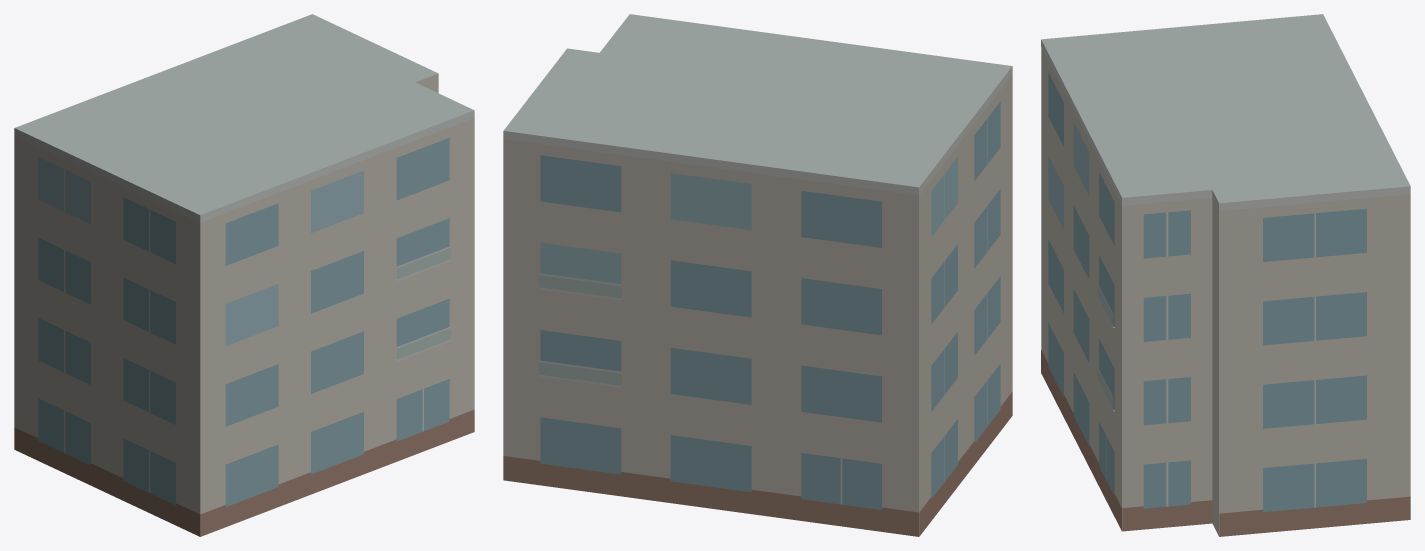
File: survey-upis-32616213.glb
3 renders of one model, left to right at view 1: azimuth 30°, elevation 25°; view 2: azimuth 150°, elevation 25°; view 3: azimuth 270°, elevation 25°, orthographic. The views are drawn at different scales.
Parts seen in each view (by area): view 1: survey-upis-32616213.tmp; view 2: survey-upis-32616213.tmp; view 3: survey-upis-32616213.tmp.
Boxes of the visible parts, left/top/right/bottom form: survey-upis-32616213.tmp: left=14, top=14, right=474, bottom=536; survey-upis-32616213.tmp: left=503, top=14, right=1012, bottom=536; survey-upis-32616213.tmp: left=1041, top=14, right=1410, bottom=536.
Bounding box in the file's own units: 12.79 × 10.5 × 10.56.
